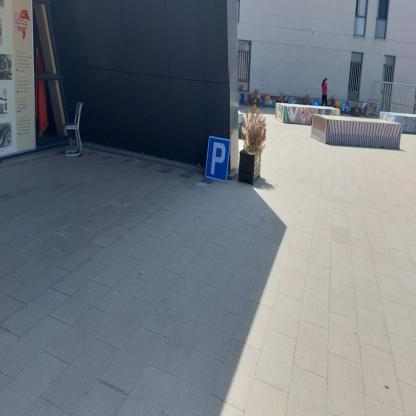Parking-Sign: (206, 136, 232, 183)
